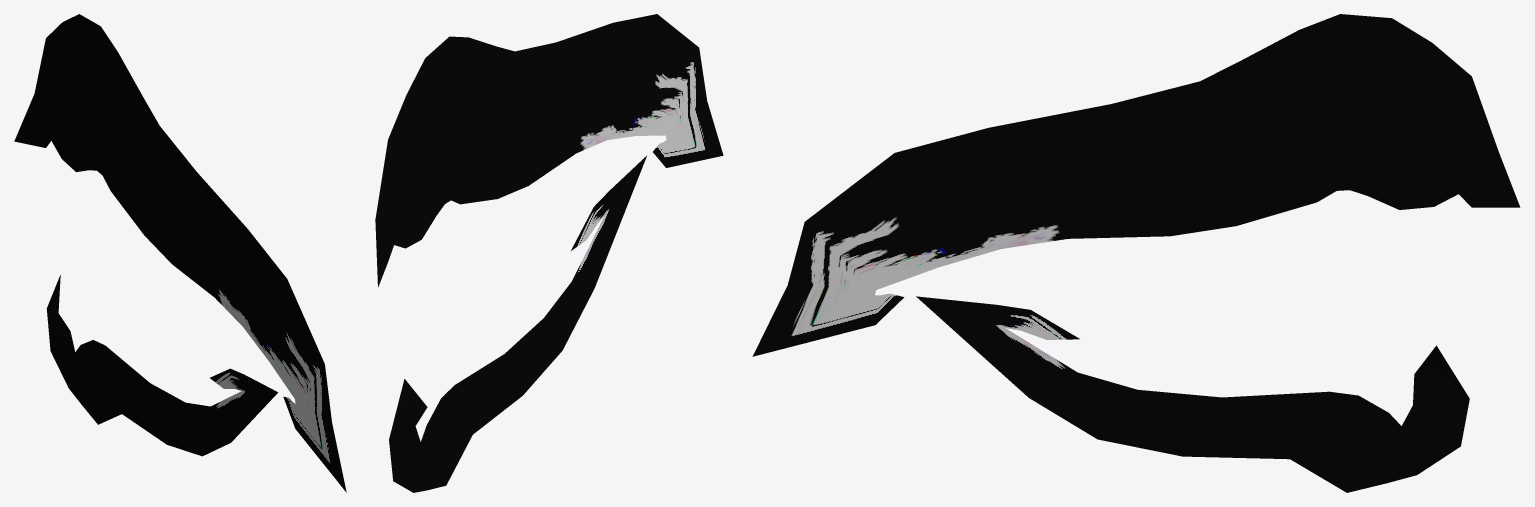
Rendered from zhufudatianshizhijueduizhiren002.fbx.
3 views of the same model, side by side, from view 1: azimuth 30°, elevation 25°; view 2: azimuth 150°, elevation 25°; view 3: azimuth 270°, elevation 25° (orthographic). The views are drawn at different scales.
Visible parts, largest first — view 1: zhufudatianshizhijueduizhiren002; view 2: zhufudatianshizhijueduizhiren002; view 3: zhufudatianshizhijueduizhiren002.
Part boxes in pixels (x1,y1,x2,y2): zhufudatianshizhijueduizhiren002: (14, 14, 346, 492); zhufudatianshizhijueduizhiren002: (375, 14, 723, 492); zhufudatianshizhijueduizhiren002: (752, 14, 1520, 492).
Size of the model in its own units: 7.25 by 232 by 337.
